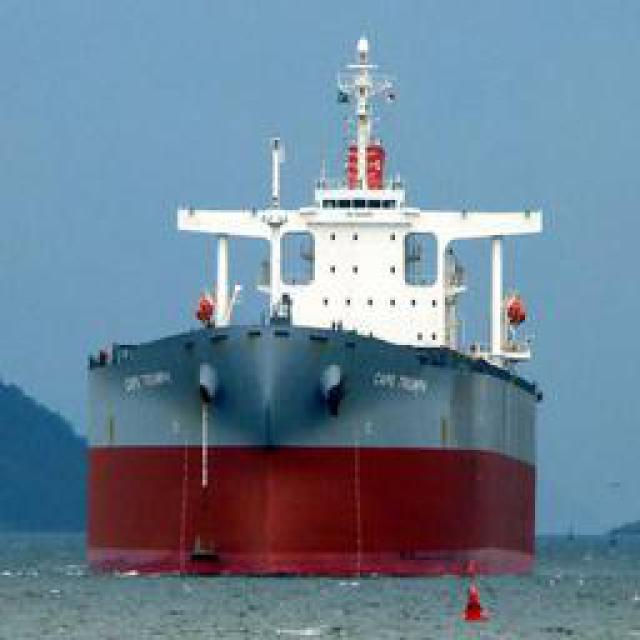Ship: (77, 1, 547, 591)
